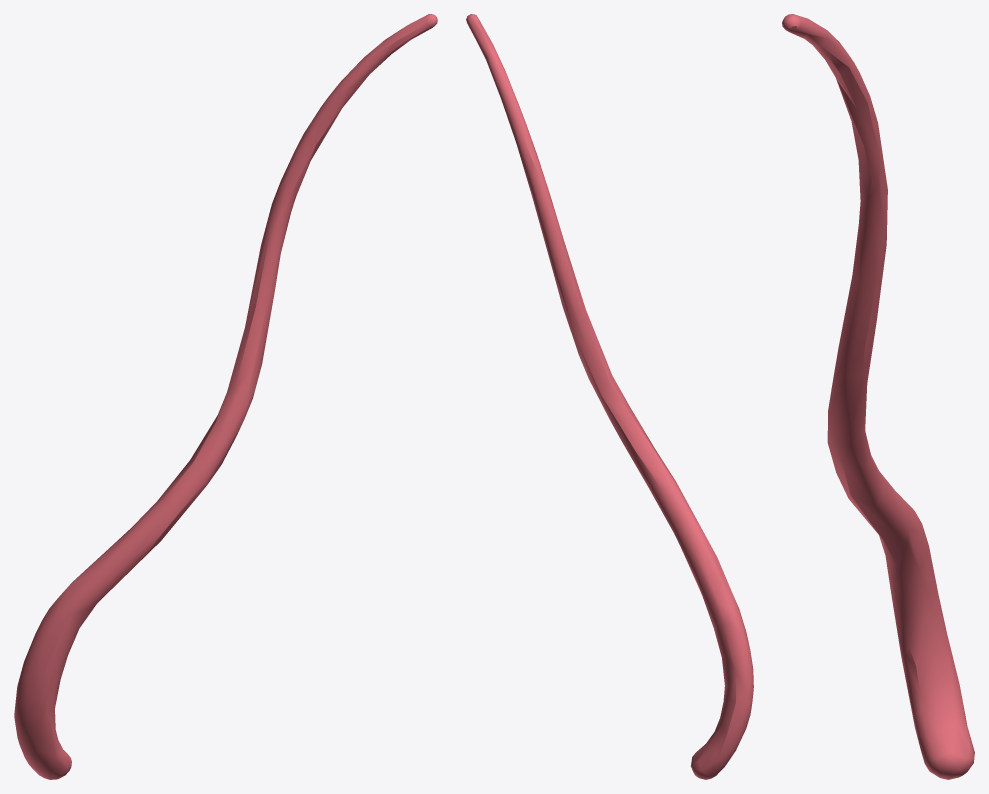
File: fma50480_fj5041.glb
3 renders of one model, left to right at view 1: azimuth 30°, elevation 25°; view 2: azimuth 150°, elevation 25°; view 3: azimuth 270°, elevation 25°, orthographic. The views are drawn at different scales.
Visible parts, largest first — view 1: FMA50480_FJ5041; view 2: FMA50480_FJ5041; view 3: FMA50480_FJ5041.
Part boxes in pixels (left/top/right/bottom): FMA50480_FJ5041: left=14, top=14, right=437, bottom=779; FMA50480_FJ5041: left=466, top=14, right=753, bottom=779; FMA50480_FJ5041: left=782, top=14, right=974, bottom=779.
Size of the model in its own units: 0.0142 by 0.0269 by 0.00485.
